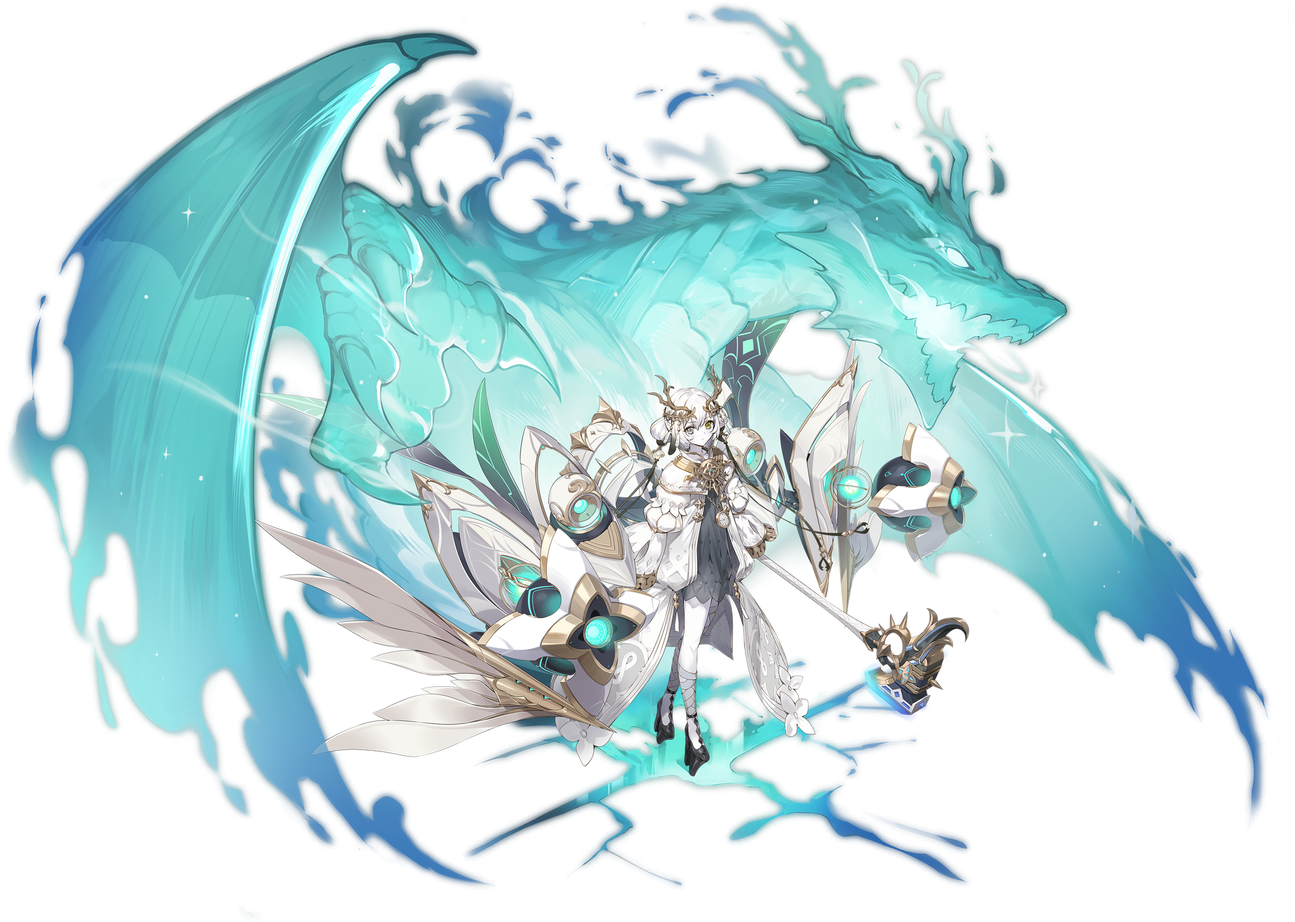person: (601, 317, 804, 791)
